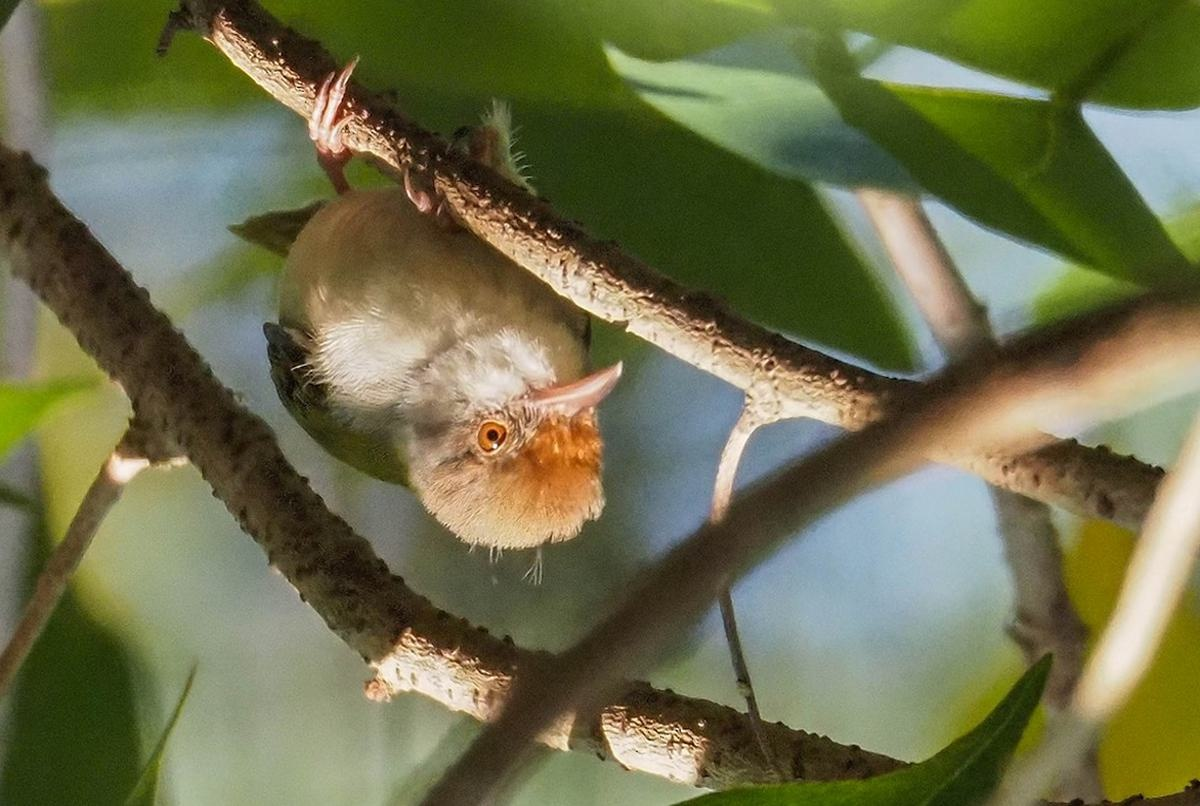tailorbird: (257, 46, 681, 555)
